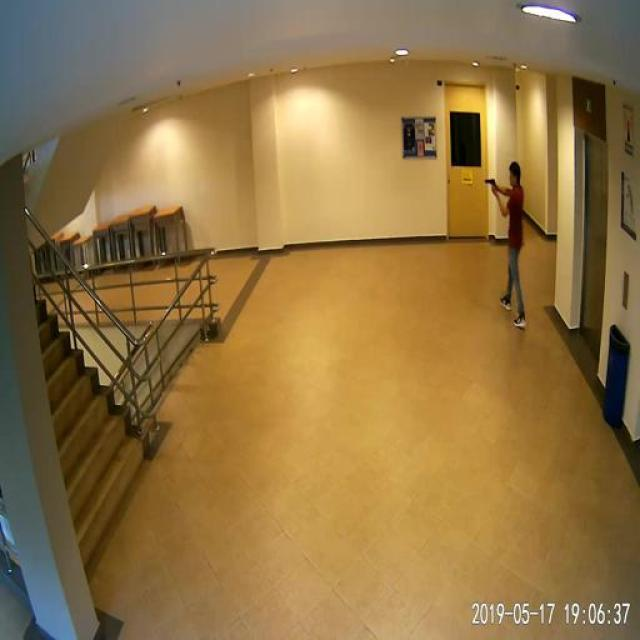Gun: (478, 171, 504, 203)
